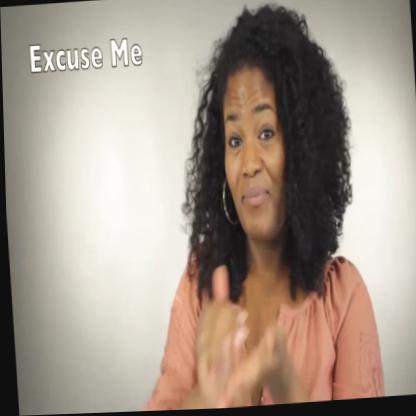ExcuseMe: (113, 0, 385, 413)
